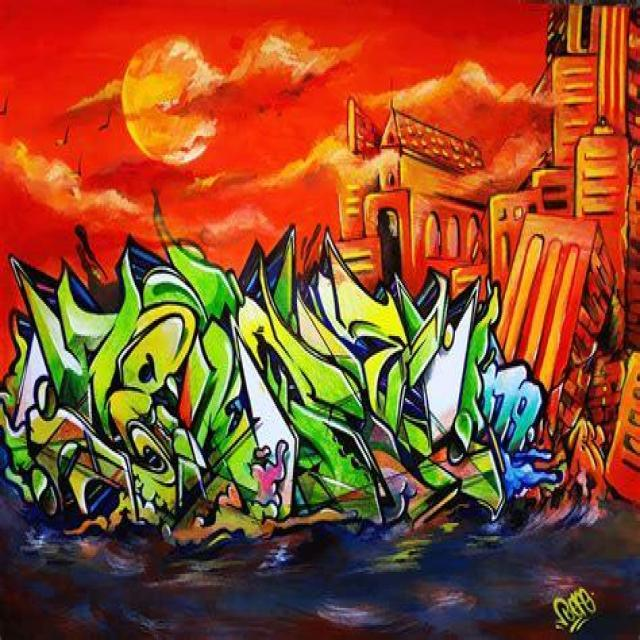nonspitting: (0, 225, 560, 544), (332, 4, 640, 502)
